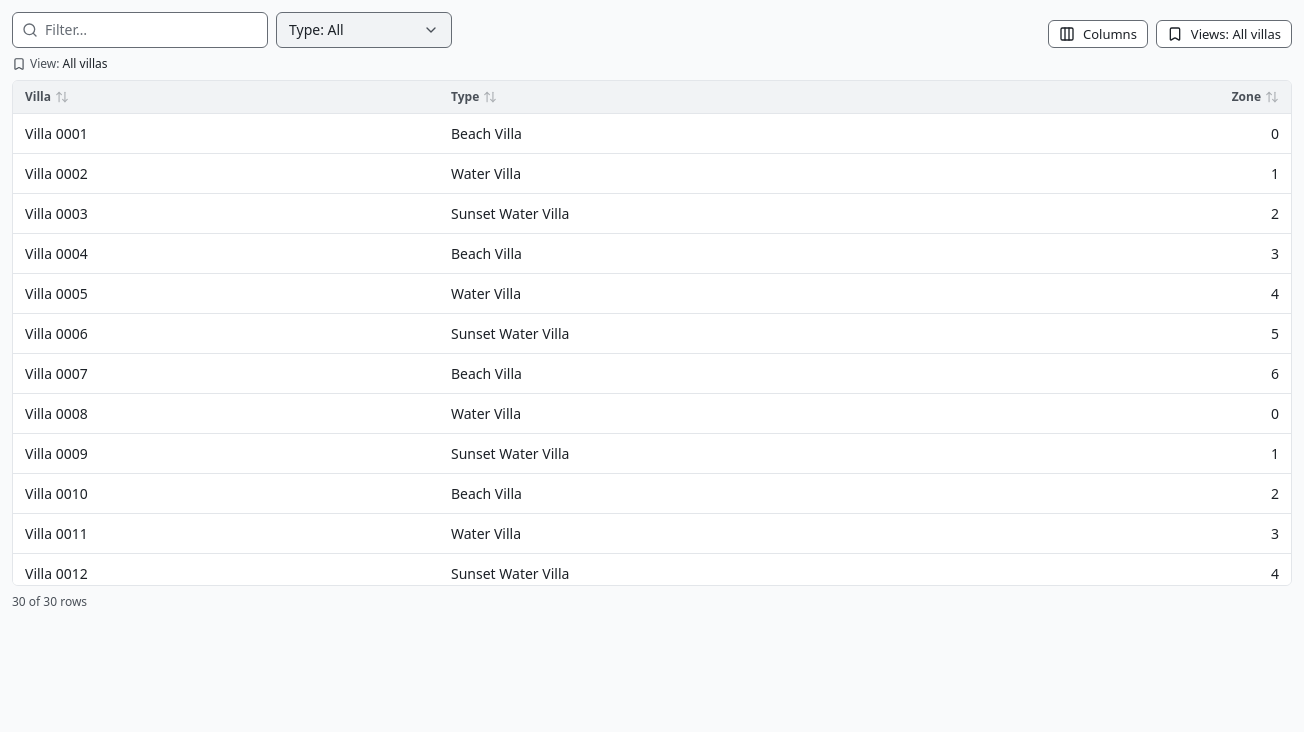
Scenario: DataTable › filters with quick search and switches saved views (filters, sort and hidden columns)
The image size is (1304, 732).
In the search field named "Filter rows": (140, 30) [12,12,268,48], type "0007"
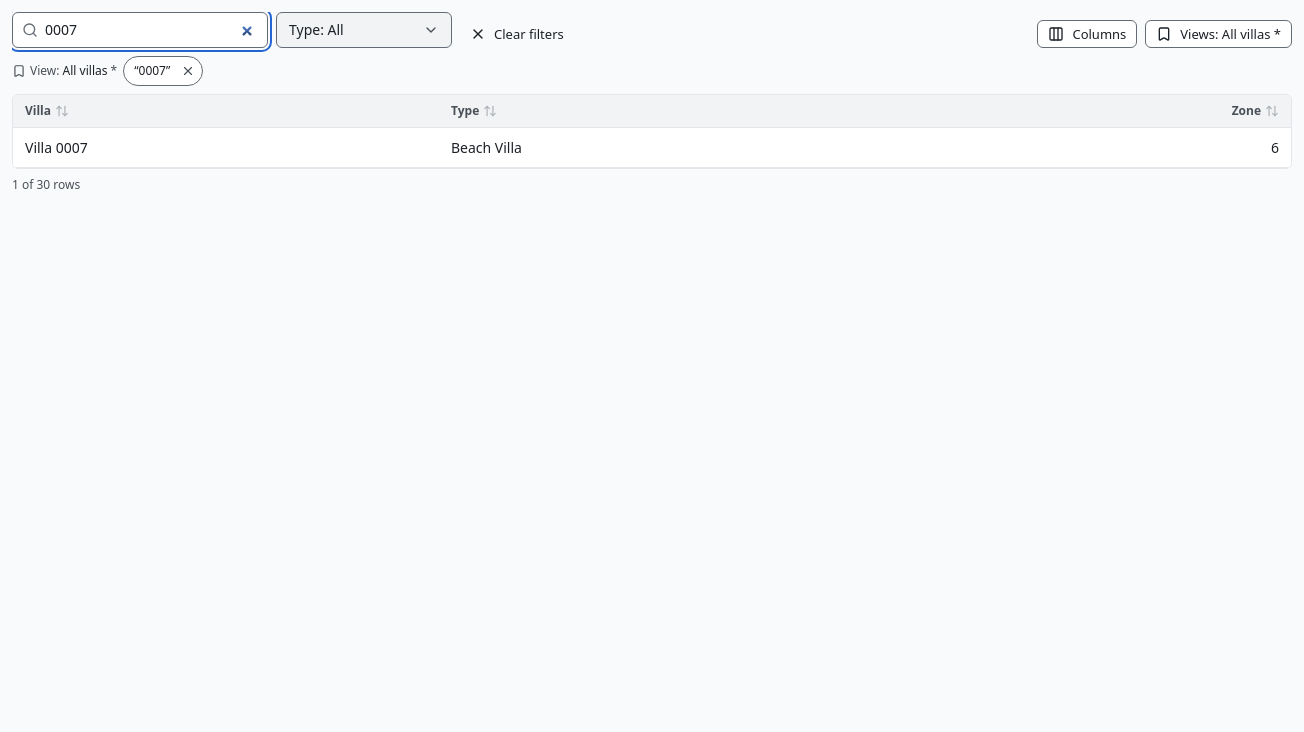
Result: the text "1 of 30 rows" is shown at [12,176,80,193]
Clear the search field named "Filter rows": (140, 30) [12,12,268,48]
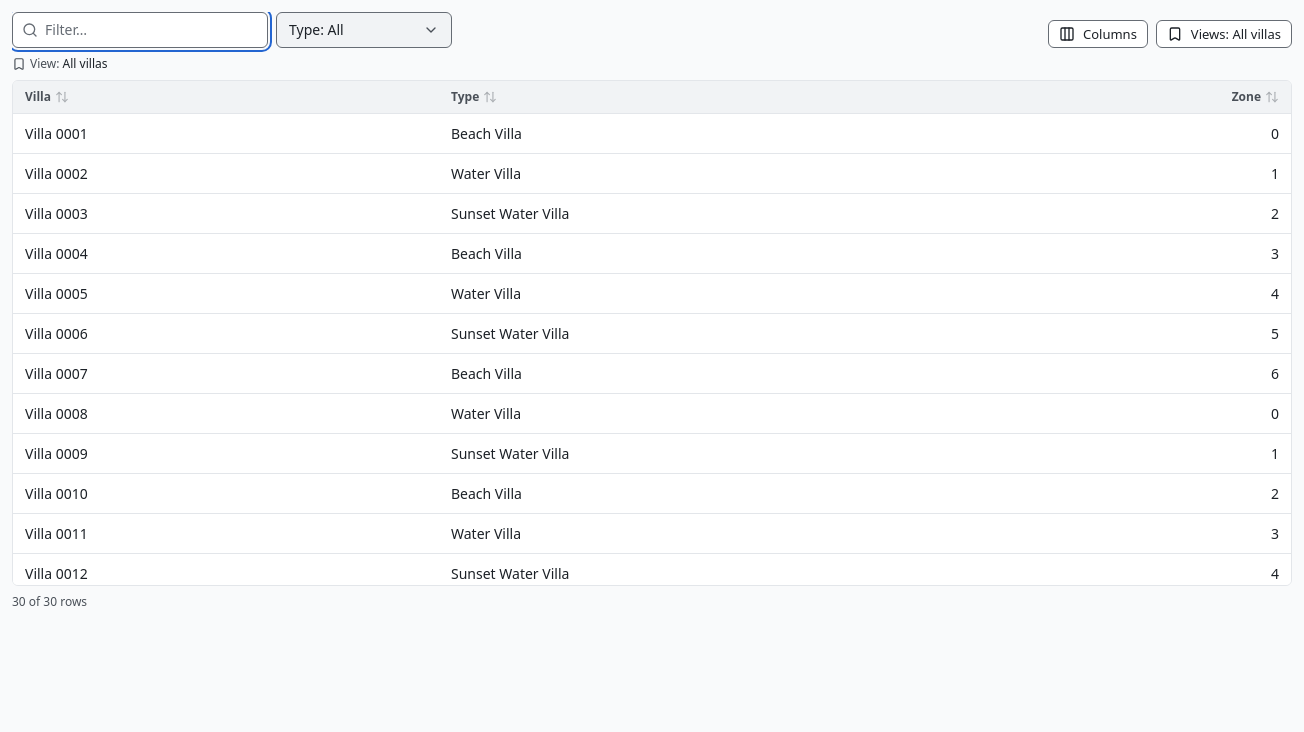
Click the button "Views: All villas": (1224, 34) [1156,20,1292,48]
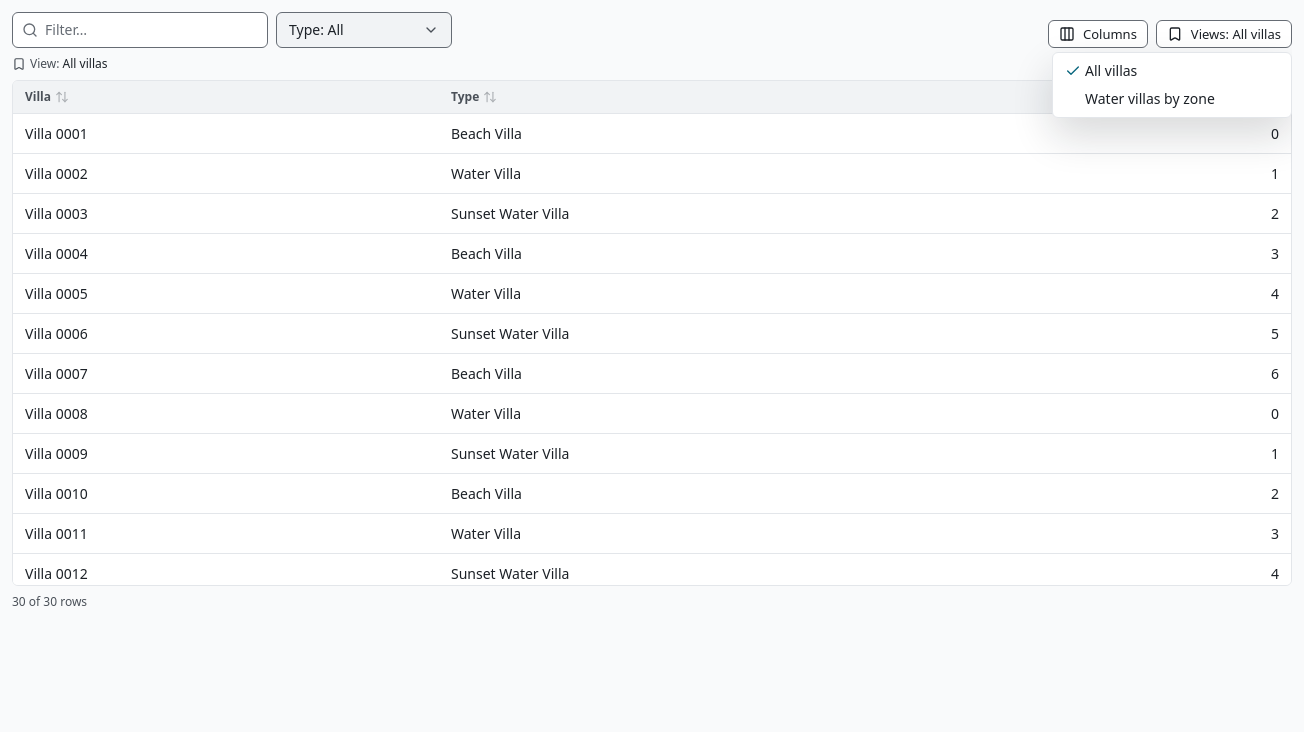
Click the menu item "Water villas by zone": (1150, 98) [1085,89,1215,108]
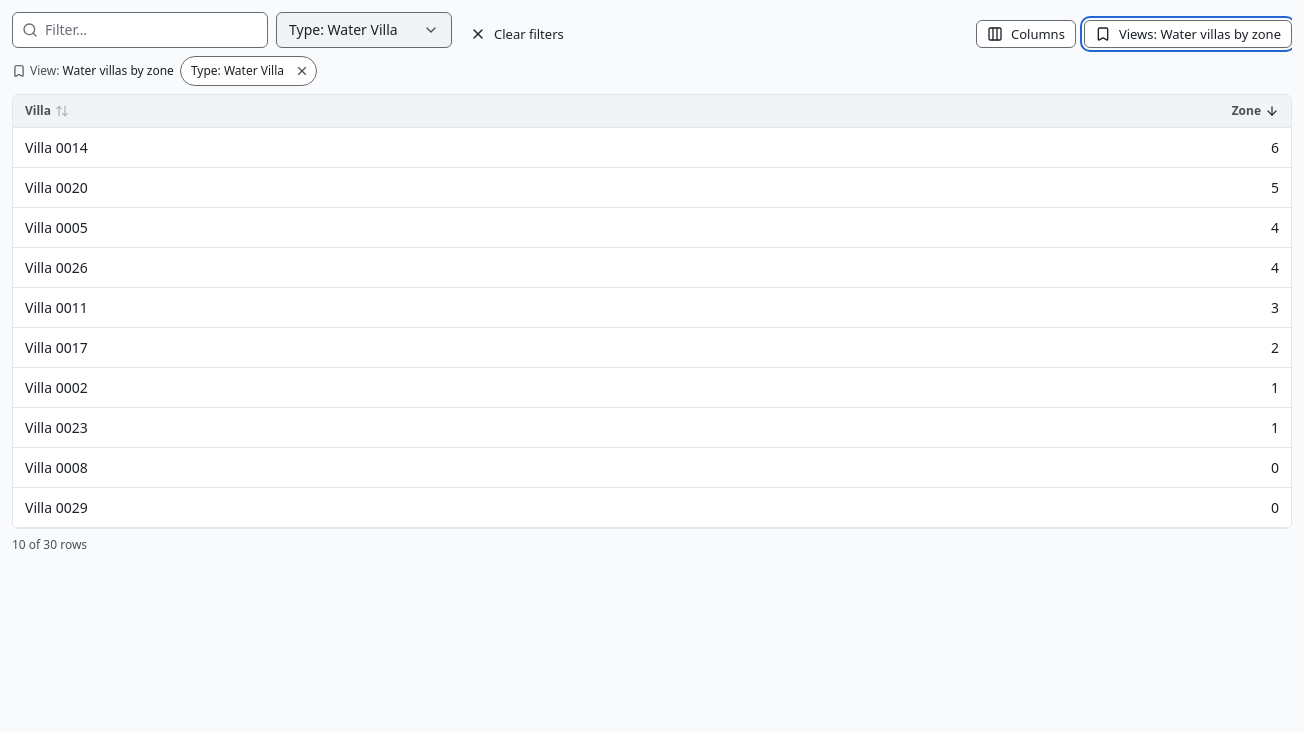
Result: the text "10 of 30 rows" is shown at [12,536,87,553]
